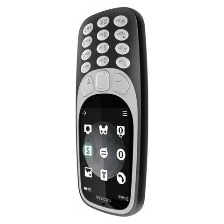phone: (70, 4, 155, 221)
